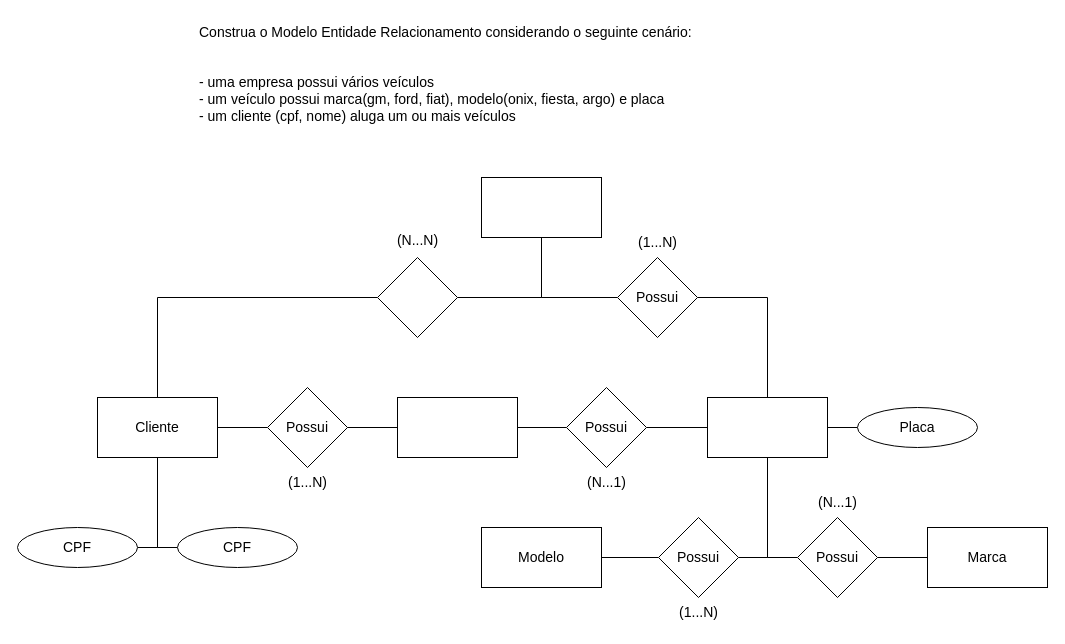
This 1065x644 diagram has some shape labels left out. The shapes that lost their labels are listed below. From the top down, each one's centre as x and y in pixels, then its label:
At point (541, 207): "Empresa".
At point (417, 297): "Contata".
At point (457, 427): "Alugel".
At point (767, 427): "Veículo".
